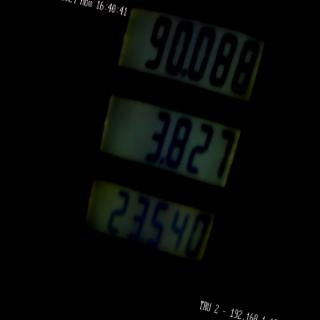screen: (61, 0, 276, 301)
